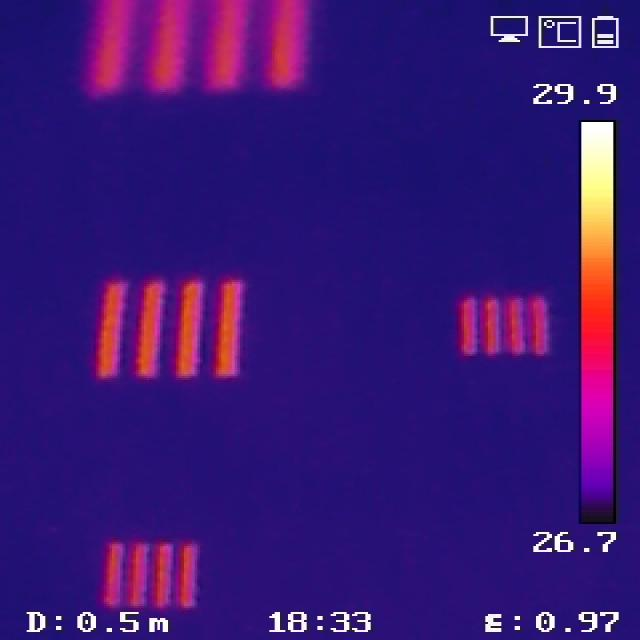Distinguishable 4-bar target: (82, 0, 310, 94), (93, 269, 250, 387), (449, 287, 555, 366), (95, 535, 204, 611)
